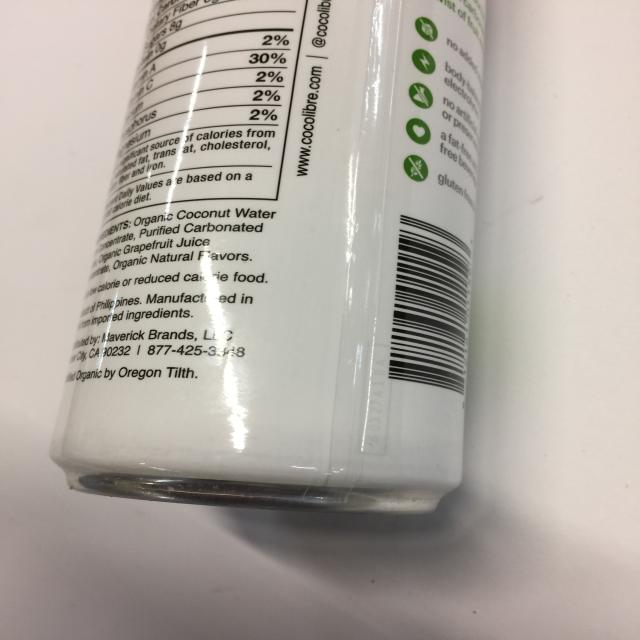plastic: (48, 0, 488, 515)
